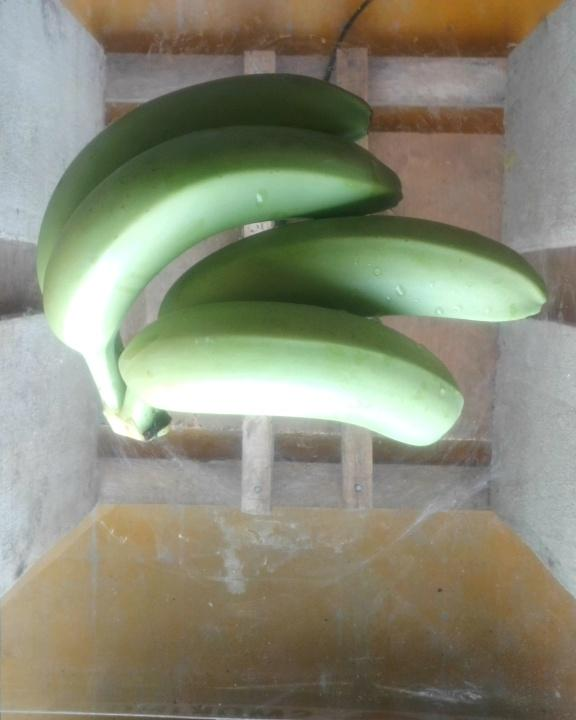SPOT: (26, 48, 553, 466)
